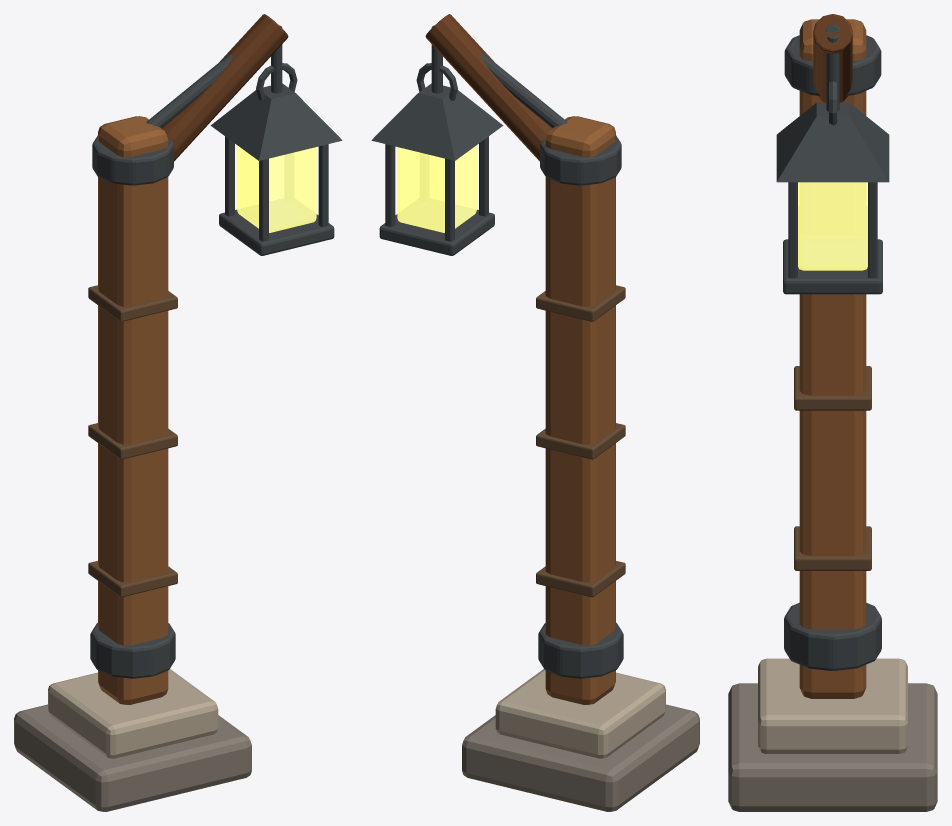
3 views of the same model, side by side, from view 1: azimuth 30°, elevation 25°; view 2: azimuth 150°, elevation 25°; view 3: azimuth 270°, elevation 25° (orthographic). The views are drawn at different scales.
Visible parts, largest first — view 1: WK_TimberPostLamp_LOD1_Balanced; view 2: WK_TimberPostLamp_LOD1_Balanced; view 3: WK_TimberPostLamp_LOD1_Balanced.
Boxes of the visible parts, x1,y1,x2,y2 form: WK_TimberPostLamp_LOD1_Balanced: (14,14,342,811); WK_TimberPostLamp_LOD1_Balanced: (371,14,699,811); WK_TimberPostLamp_LOD1_Balanced: (728,14,937,811).
Bounding box in the file's own units: 1.32 × 3.43 × 0.78.
